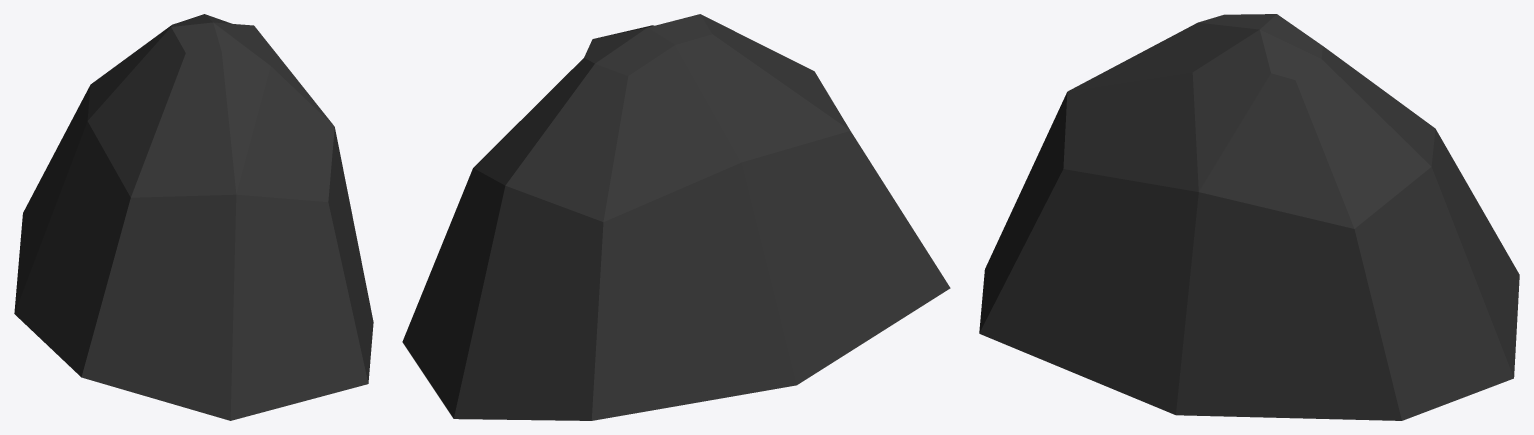
File: LargeRockFlatVar.fbx
3 renders of one model, left to right at view 1: azimuth 30°, elevation 25°; view 2: azimuth 150°, elevation 25°; view 3: azimuth 270°, elevation 25°, orthographic. The views are drawn at different scales.
Parts seen in each view (by area): view 1: LargeRockFlatVariant; view 2: LargeRockFlatVariant; view 3: LargeRockFlatVariant.
Boxes of the visible parts, left/top/right/bottom form: LargeRockFlatVariant: left=14, top=14, right=373, bottom=420; LargeRockFlatVariant: left=402, top=14, right=950, bottom=420; LargeRockFlatVariant: left=979, top=14, right=1519, bottom=420.
Bounding box in the file's own units: 0.8943 × 0.6928 × 1.05.
Materials: 1 (1 with a texture image).
